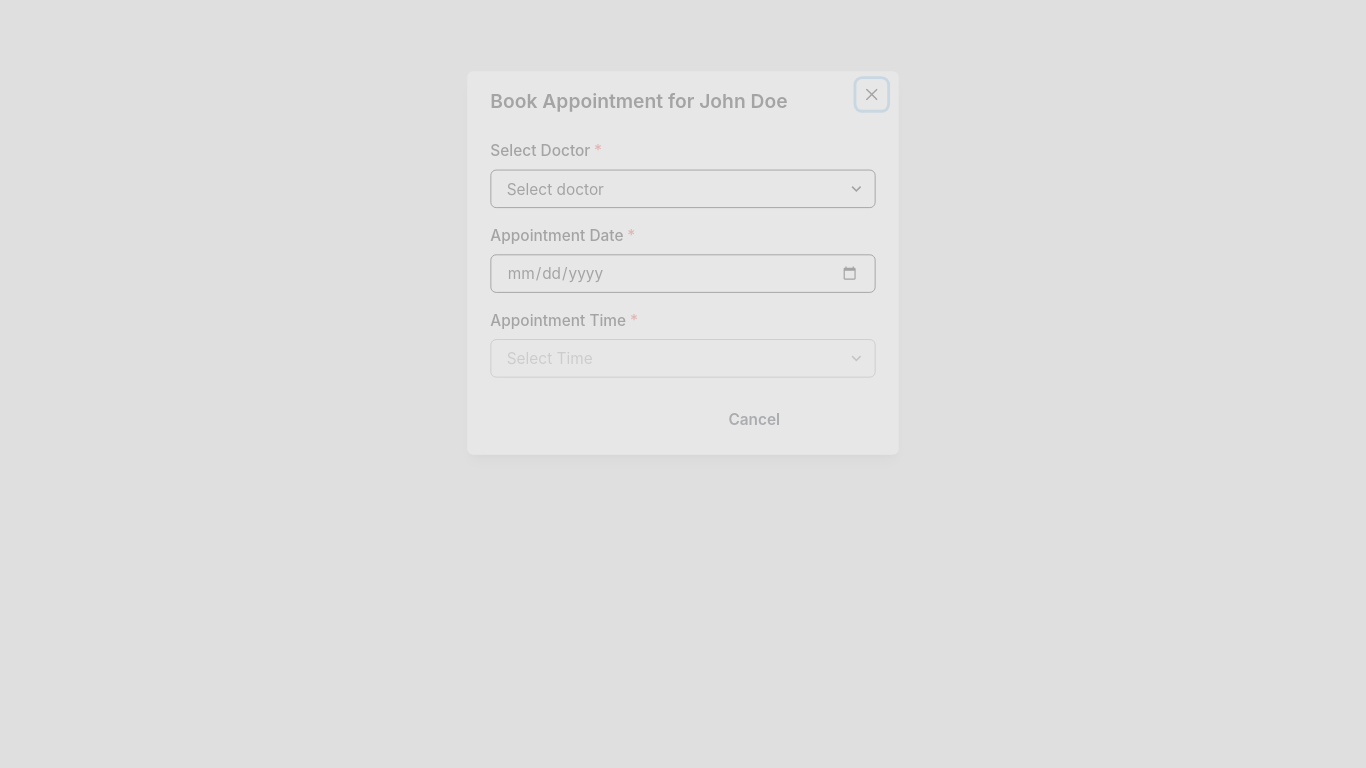
BookAppointmentModal Component › displays leave warning message and disables book button when doctor is on leave
Select doctor
Select "Dr. Test (Cardiology)" in the dropdown labelled "Select Doctor*" at (683,189), box [490,170,876,208]
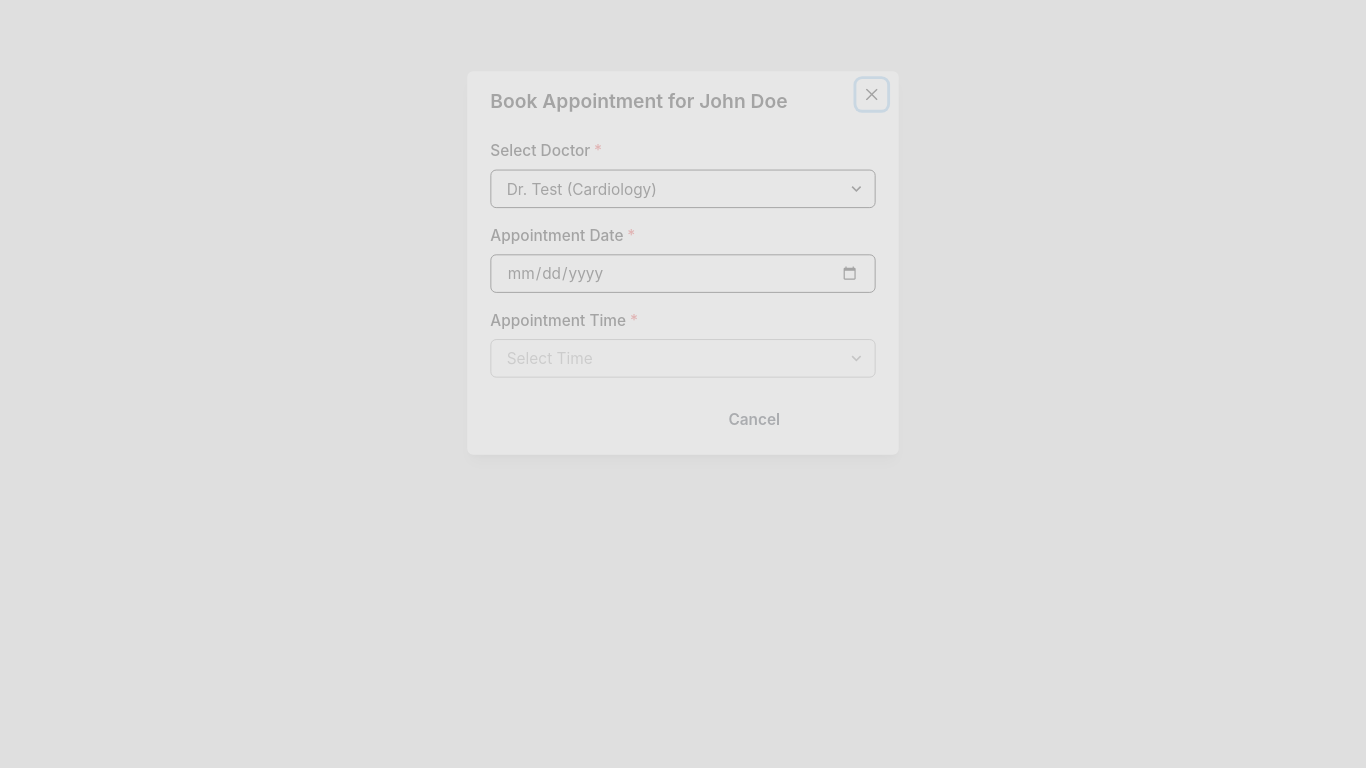
Select date within leave bounds
Type "2026-06-25" into the date field labelled "Appointment Date*" at (683,274), box [490,254,876,293]
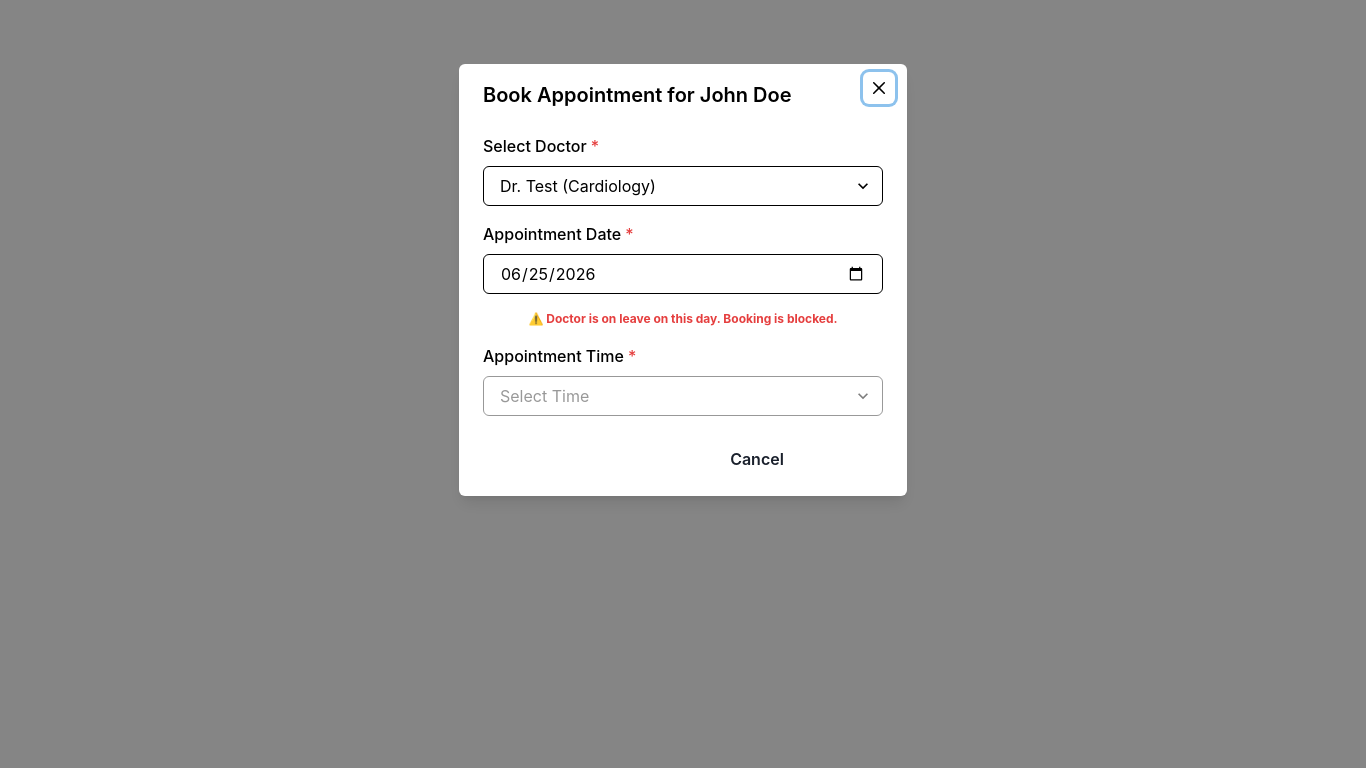
Expected: the text "⚠️ Doctor is on leave on this day. Booking is blocked." is shown, [528,310,838,328]
